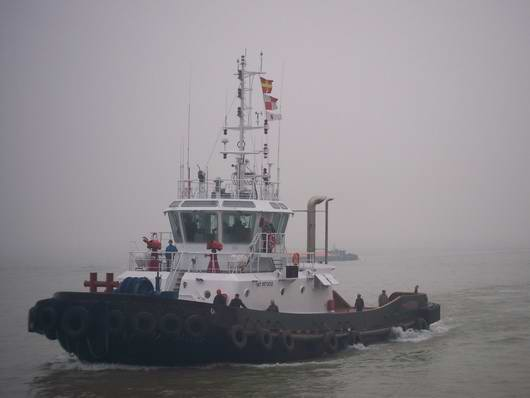otherboat: (22, 114, 442, 369)
